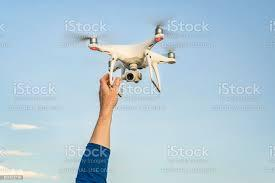drone: (83, 22, 176, 97)
